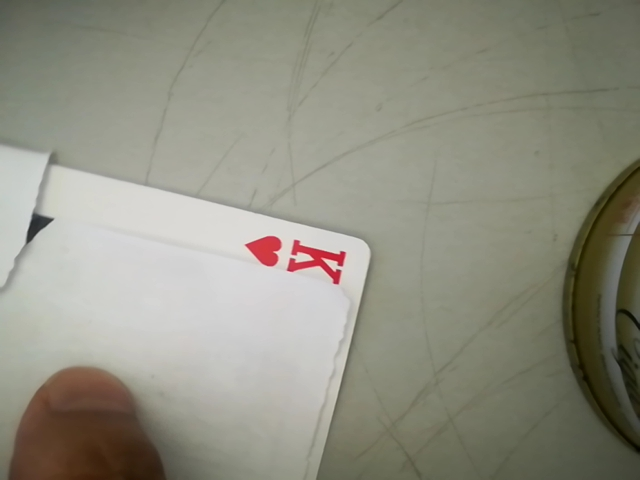hx k: (245, 231, 360, 286)
